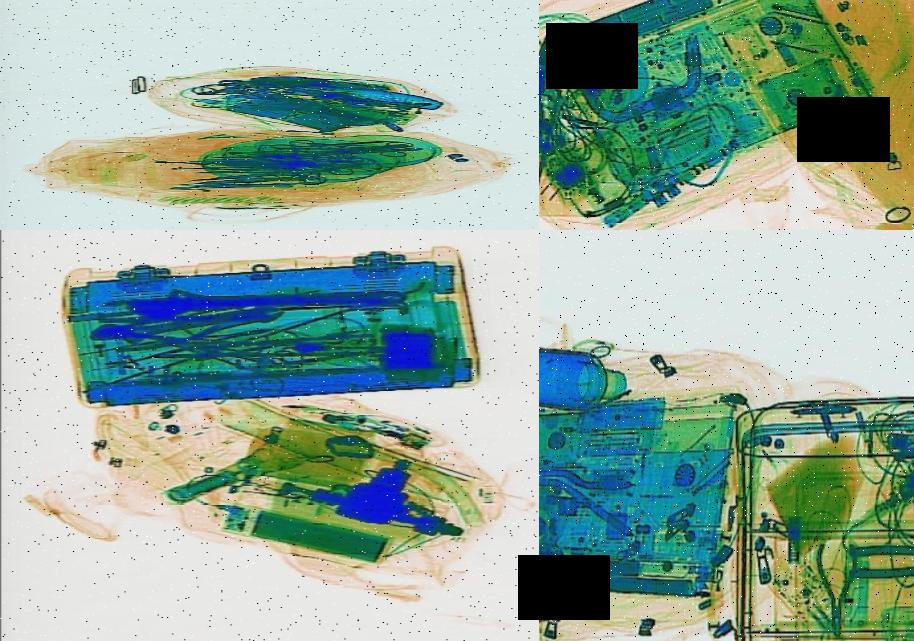Pliers: (816, 542, 855, 638), (539, 31, 566, 156), (846, 540, 914, 577)
Scissors: (288, 134, 414, 158), (268, 136, 398, 148)
Wrench: (126, 280, 405, 321), (82, 296, 282, 349)
